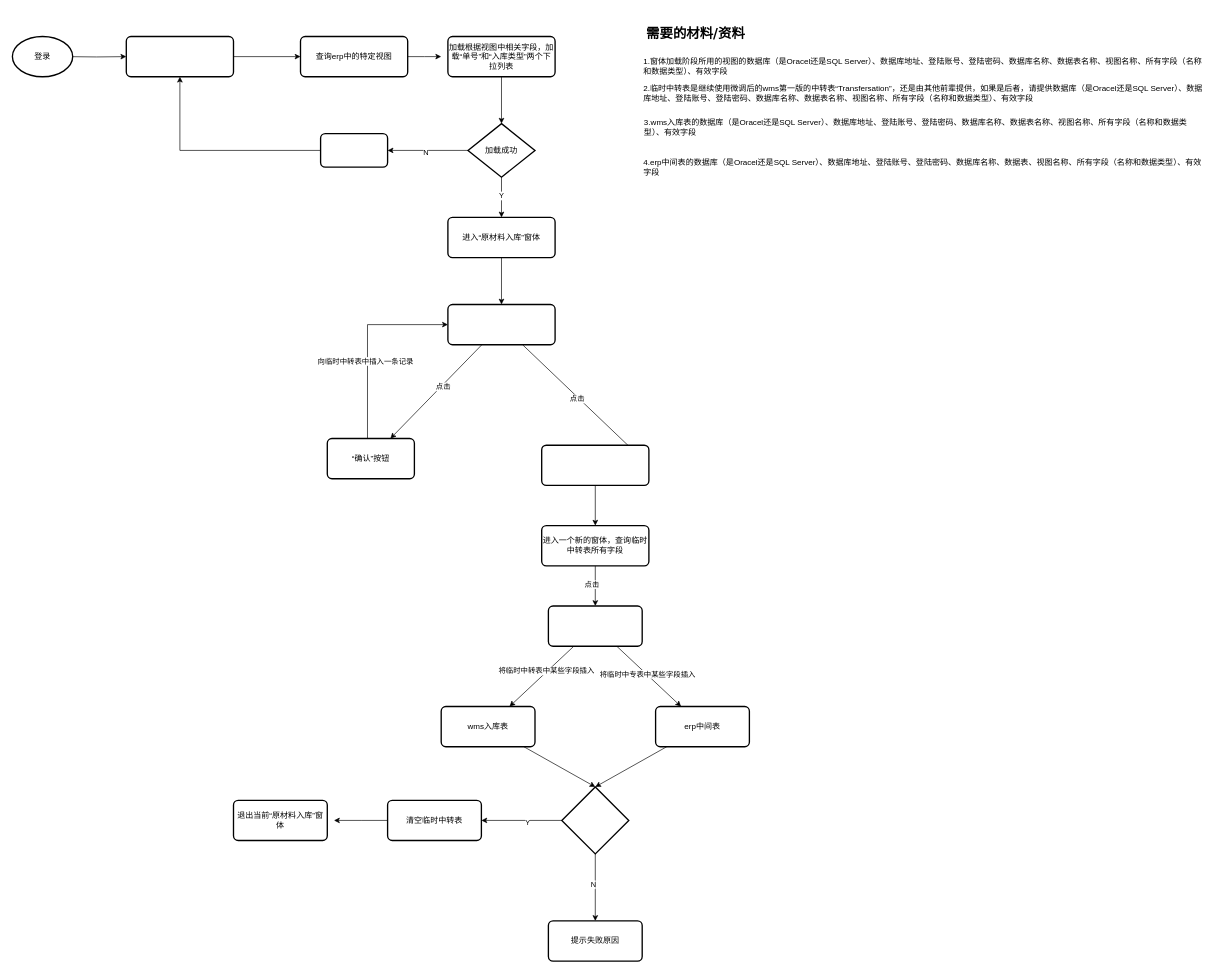
The diagram is 1217 pixels wide and 973 high, and some of its shapes have lost their labels. Here are the shapes that lost their labels. From the top down, the box of each, then its label:
(125, 36, 234, 77): 选择“原材料入库”
(320, 133, 388, 168): 提示失败，要求向视图中插入数据后重试
(447, 304, 555, 345): 扫码
(541, 444, 649, 486): “查看所有扫码情况”按钮
(547, 605, 643, 647): 确认入库
(561, 786, 629, 854): 成功
